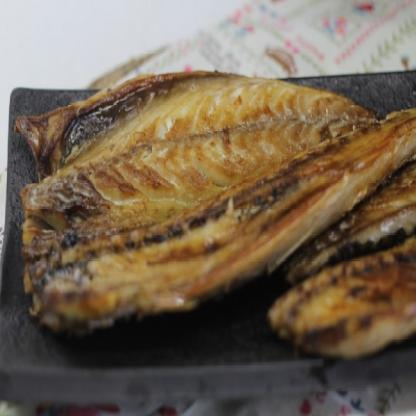Peixe: (0, 53, 416, 370)
